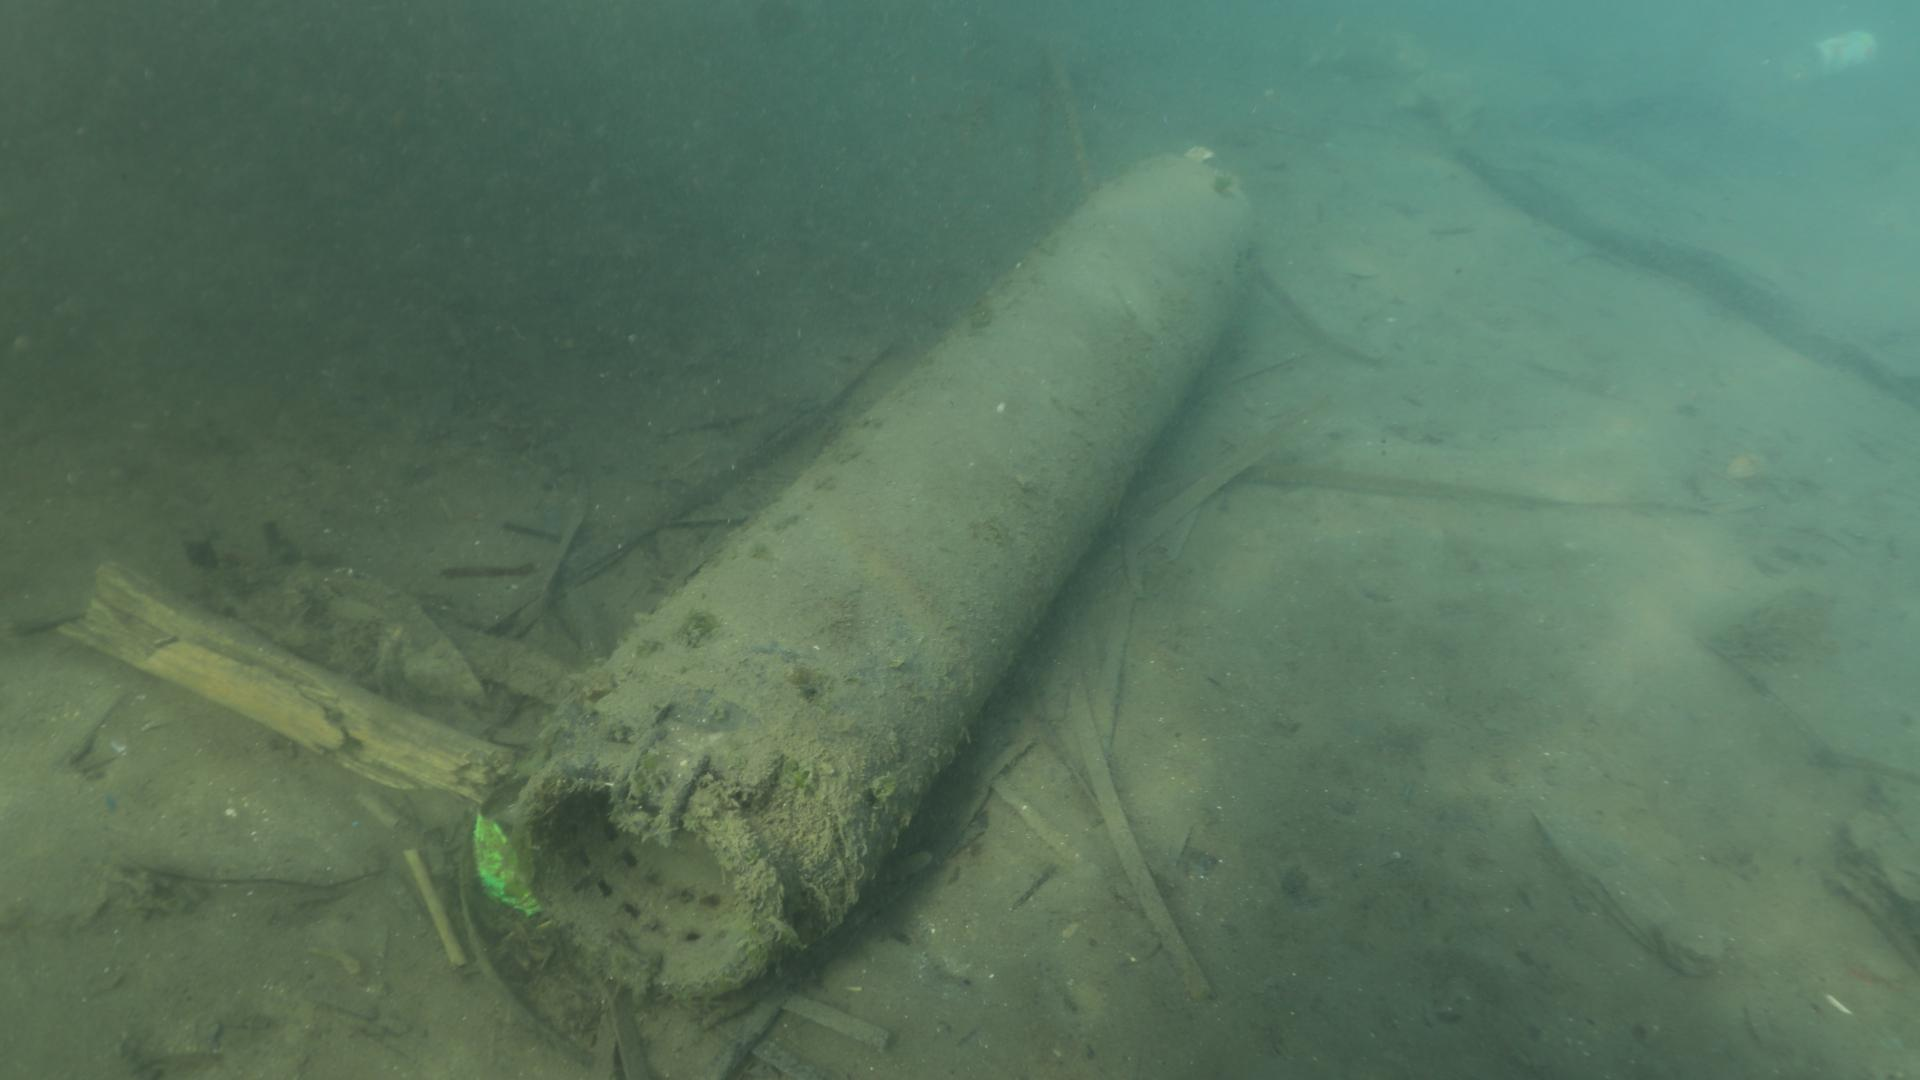eel fish trap: (510, 152, 1255, 1002)
